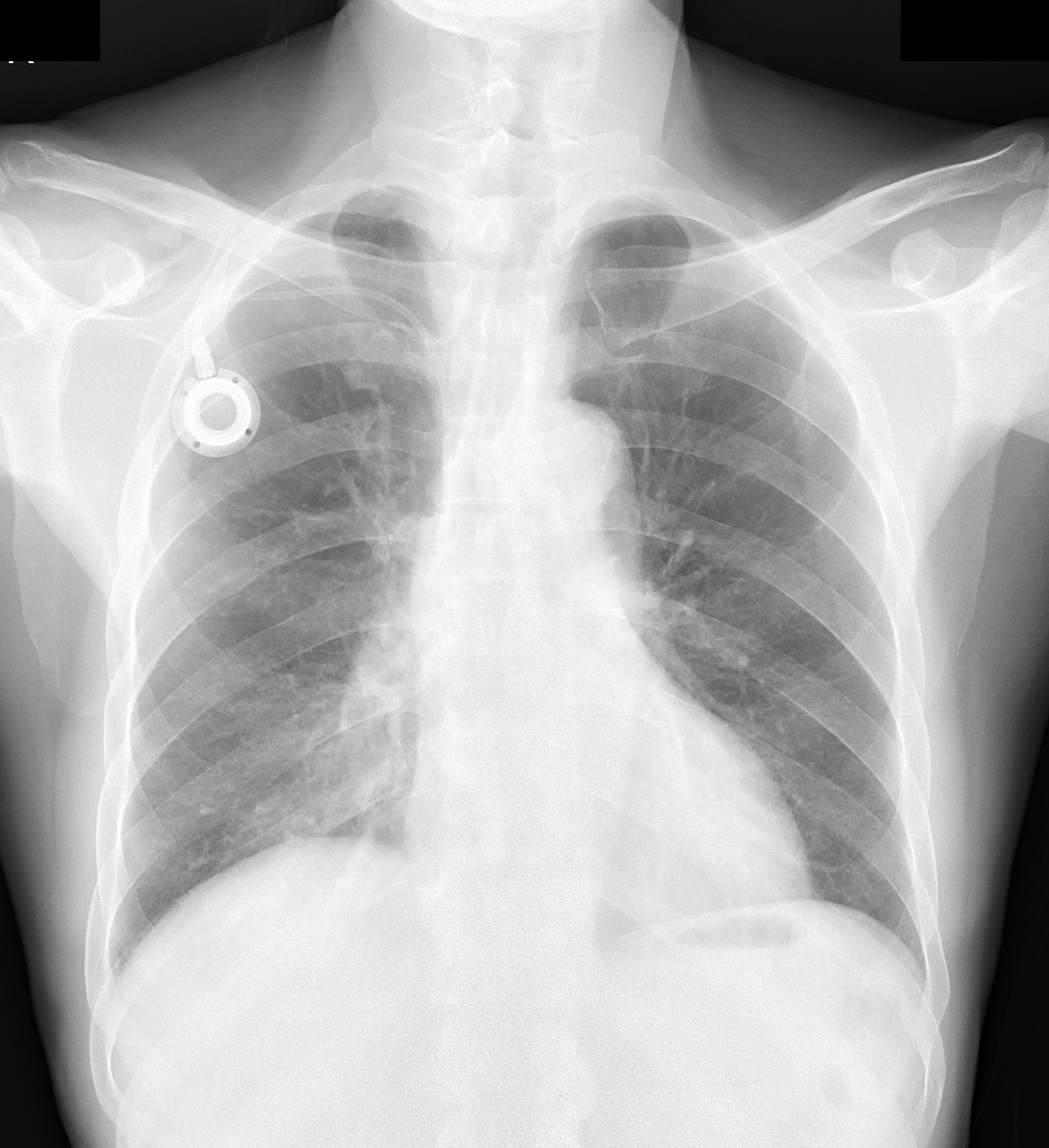Aortic enlargement: (509, 397, 628, 519)
Cardiomegaly: (397, 761, 824, 926)
